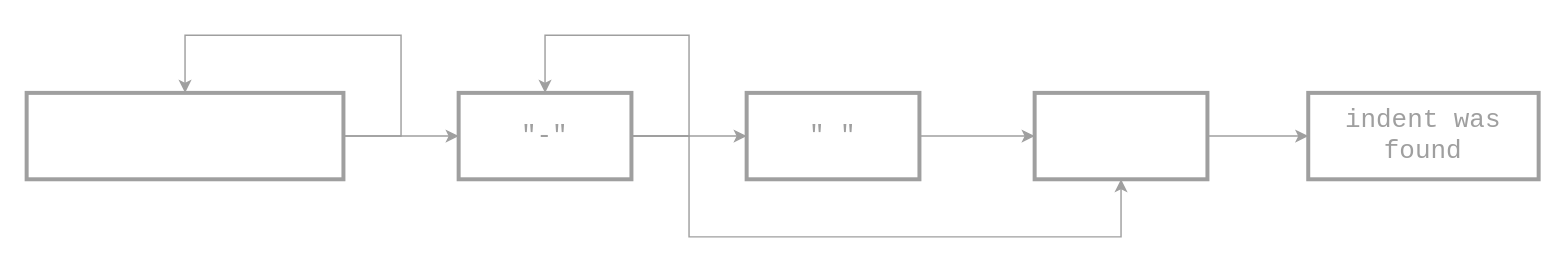
This 1565x274 diagram has some shape labels left out. The shapes that lost their labels are listed below. From the top down, each one's centre as x and y in pixels, then its label:
[184,135]: special and " ", but "-"
[1120,135]: alphanum
